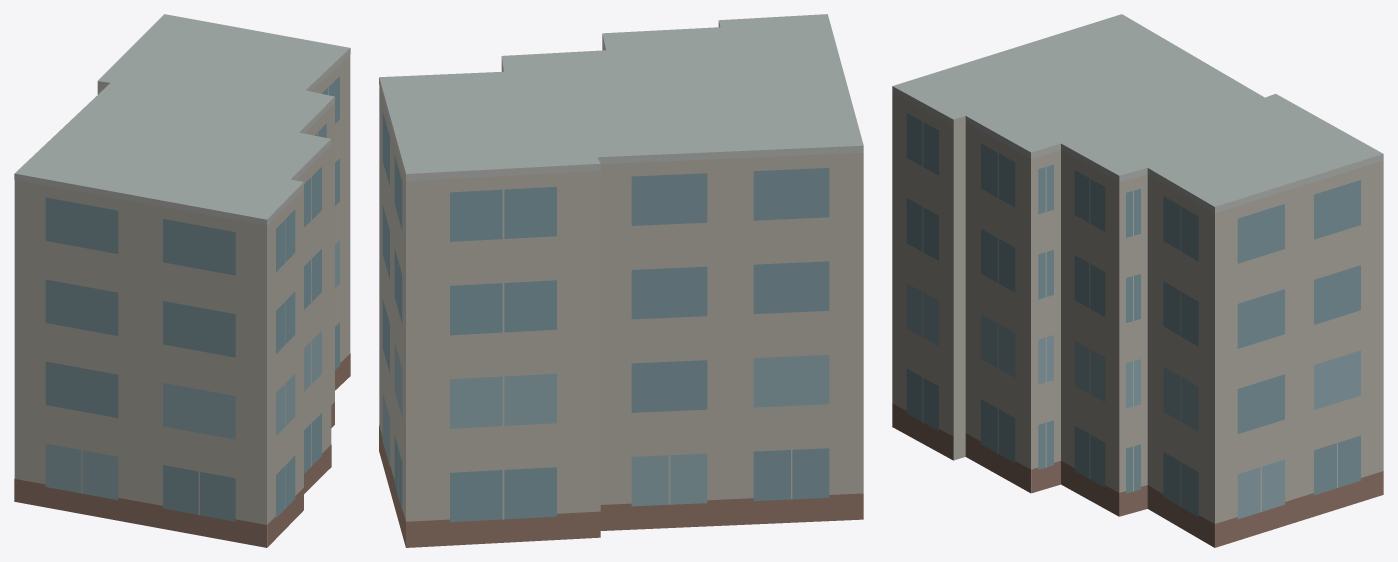
File: survey-upis-32761953.glb
3 views of the same model, side by side, from view 1: azimuth 30°, elevation 25°; view 2: azimuth 150°, elevation 25°; view 3: azimuth 270°, elevation 25° (orthographic). The views are drawn at different scales.
Visible parts, largest first — view 1: survey-upis-32761953.tmp; view 2: survey-upis-32761953.tmp; view 3: survey-upis-32761953.tmp.
Part boxes in pixels (left/top/right/bottom): survey-upis-32761953.tmp: left=14, top=14, right=350, bottom=547; survey-upis-32761953.tmp: left=379, top=14, right=863, bottom=547; survey-upis-32761953.tmp: left=892, top=14, right=1383, bottom=547.
Bounding box in the file's own units: 15.67 × 12.9 × 16.86.
